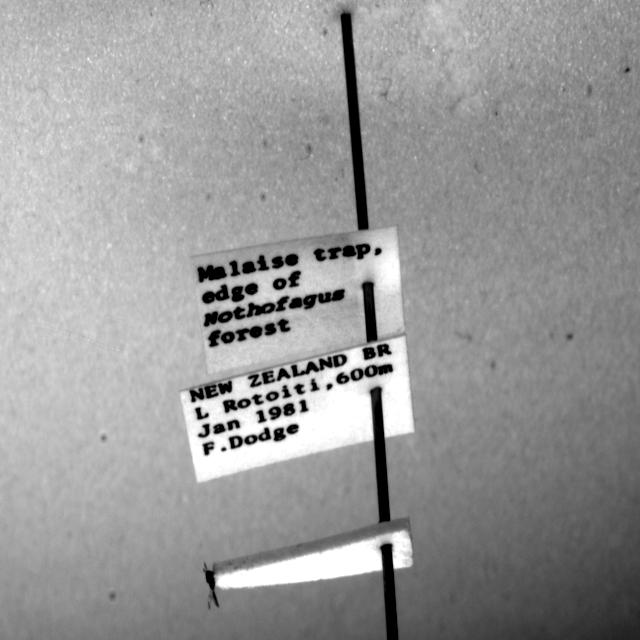typed_label: (180, 336, 415, 482), (191, 227, 405, 373)
